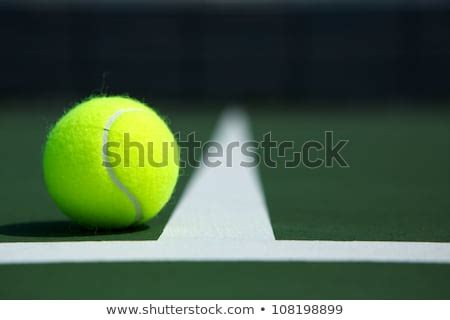tennis_ball: (41, 94, 180, 230)
